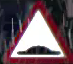Speed Breaker ahead: (3, 0, 72, 63)
